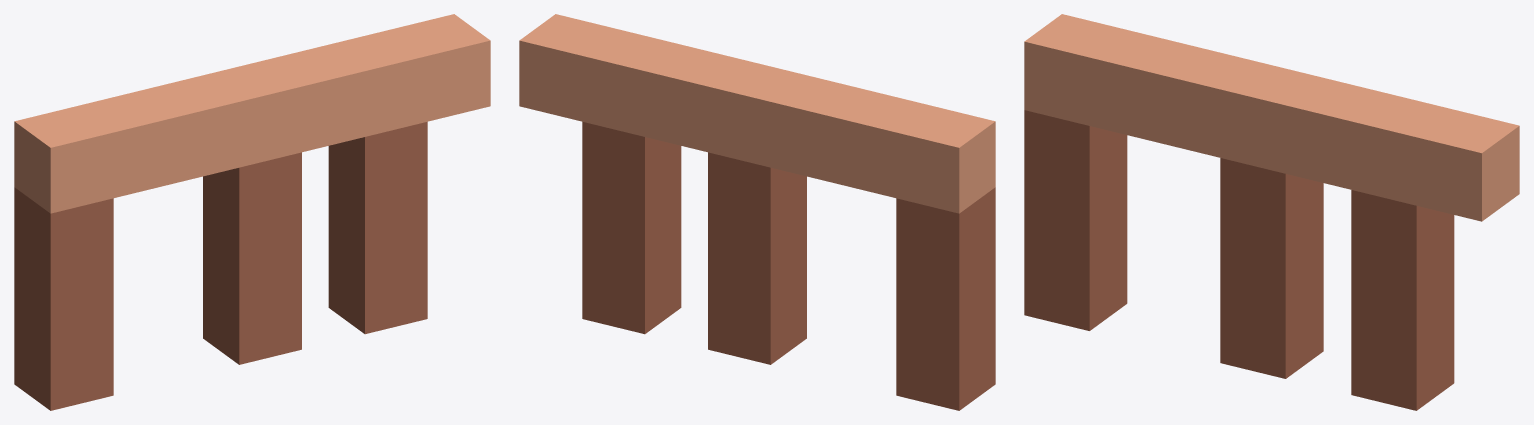
File: environ-1-rail1.obj
The picture shows the model from 3 angles, left to right: view 1: azimuth 30°, elevation 25°; view 2: azimuth 150°, elevation 25°; view 3: azimuth 330°, elevation 25°; orthographic projection. The views are drawn at different scales.
Visible parts, largest first — view 1: rail1; view 2: rail1; view 3: rail1.
Boxes of the visible parts, box(x1,y1,x2,y2) form: rail1: box(14, 14, 490, 410); rail1: box(519, 14, 995, 410); rail1: box(1024, 14, 1519, 410).
Size of the model in its own units: 0.7 by 0.4 by 0.1.
1 material, 1 textured.
